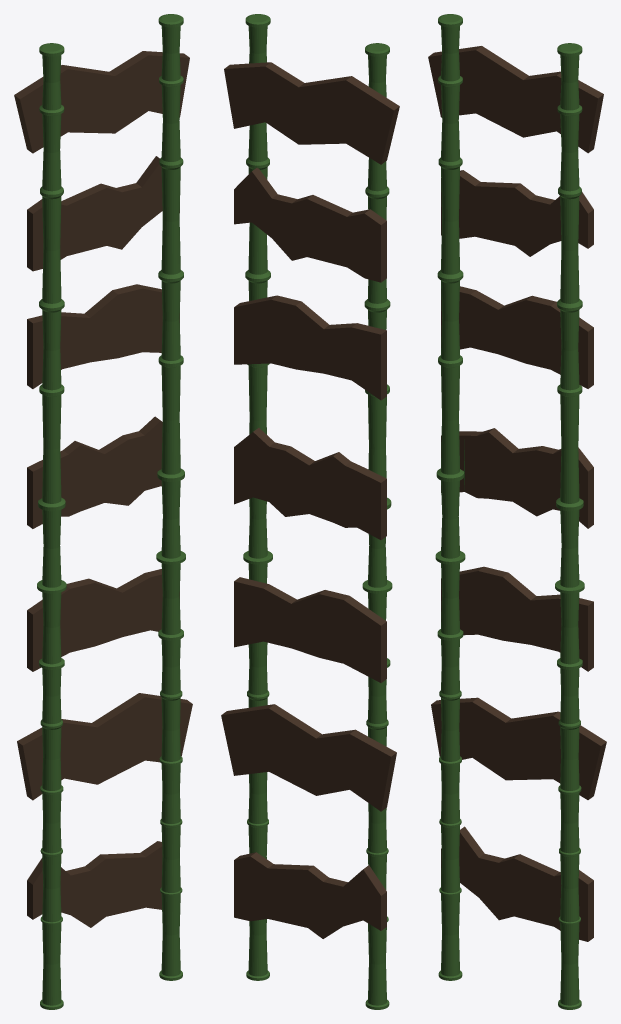
File: Echelle.fbx
3 views of the same model, side by side, from view 1: azimuth 30°, elevation 25°; view 2: azimuth 150°, elevation 25°; view 3: azimuth 330°, elevation 25° (orthographic).
Visible parts, largest first — view 1: Cylindre.018; view 2: Cylindre.018; view 3: Cylindre.018.
Part boxes in pixels (x1,y1,x2,y2): Cylindre.018: (14,14,192,1009); Cylindre.018: (221,14,399,1009); Cylindre.018: (428,14,606,1009).
Size of the model in its own units: 117 by 622 by 21.26.
